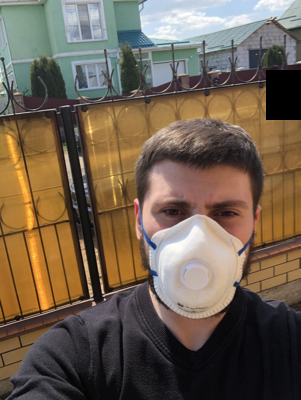with_mask: (143, 181, 254, 321)
